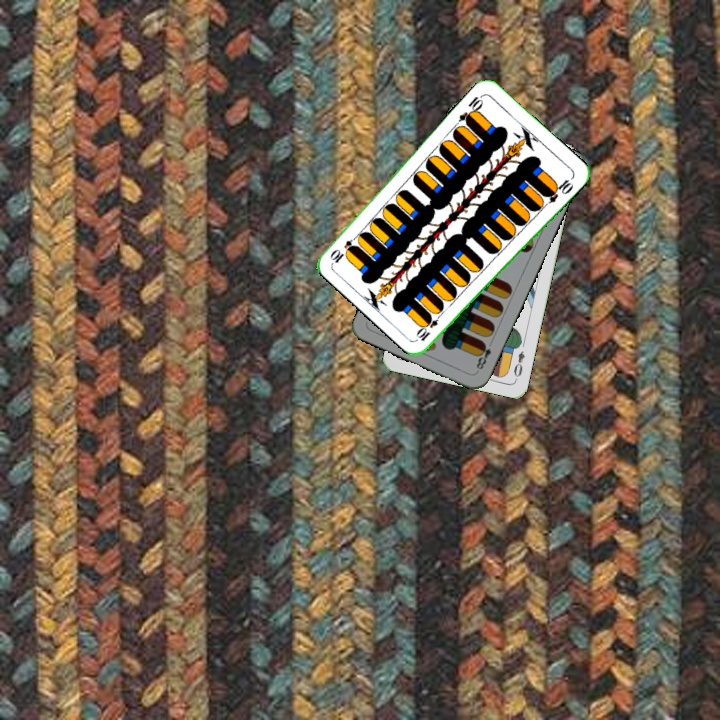E10: (455, 90, 486, 127), (414, 308, 445, 344)
E8: (472, 336, 496, 375)
EO: (510, 347, 527, 382)
